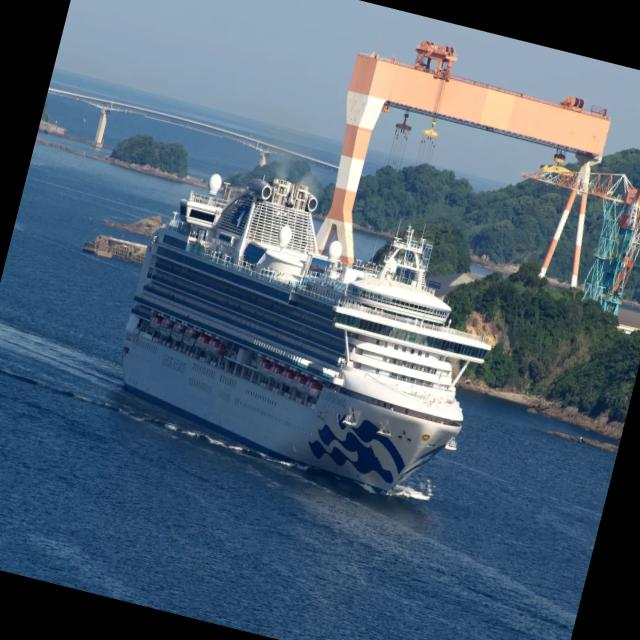Cruise: (122, 173, 490, 491)
